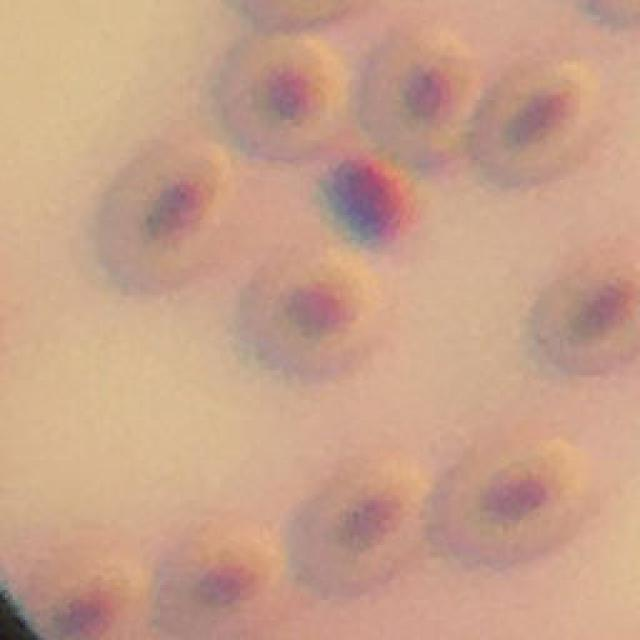RBC: (428, 440, 598, 570), (285, 455, 432, 602), (100, 132, 232, 294), (238, 248, 382, 380), (360, 28, 482, 168), (472, 56, 602, 186), (222, 32, 350, 160), (158, 522, 285, 610), (535, 274, 640, 375)
WBC: (322, 158, 415, 242)
